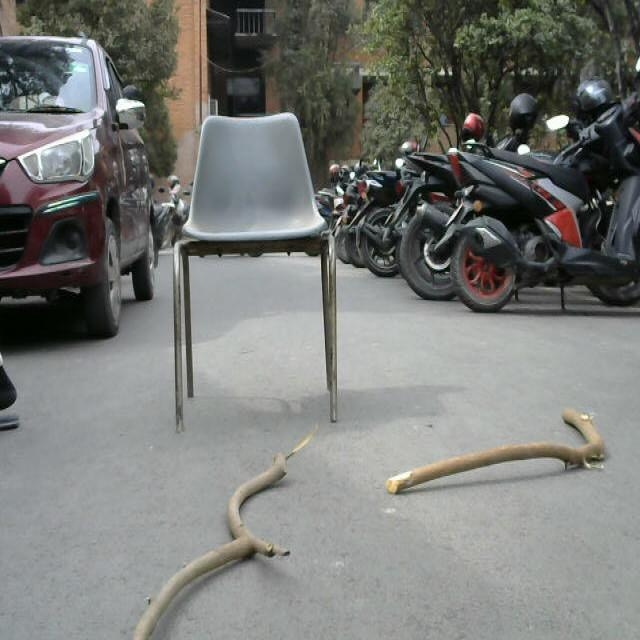Bike: (323, 103, 640, 306)
Car: (0, 34, 158, 354)
small-obstacles: (119, 430, 399, 640), (175, 108, 334, 433), (362, 407, 634, 501)
trees: (365, 1, 611, 83)
